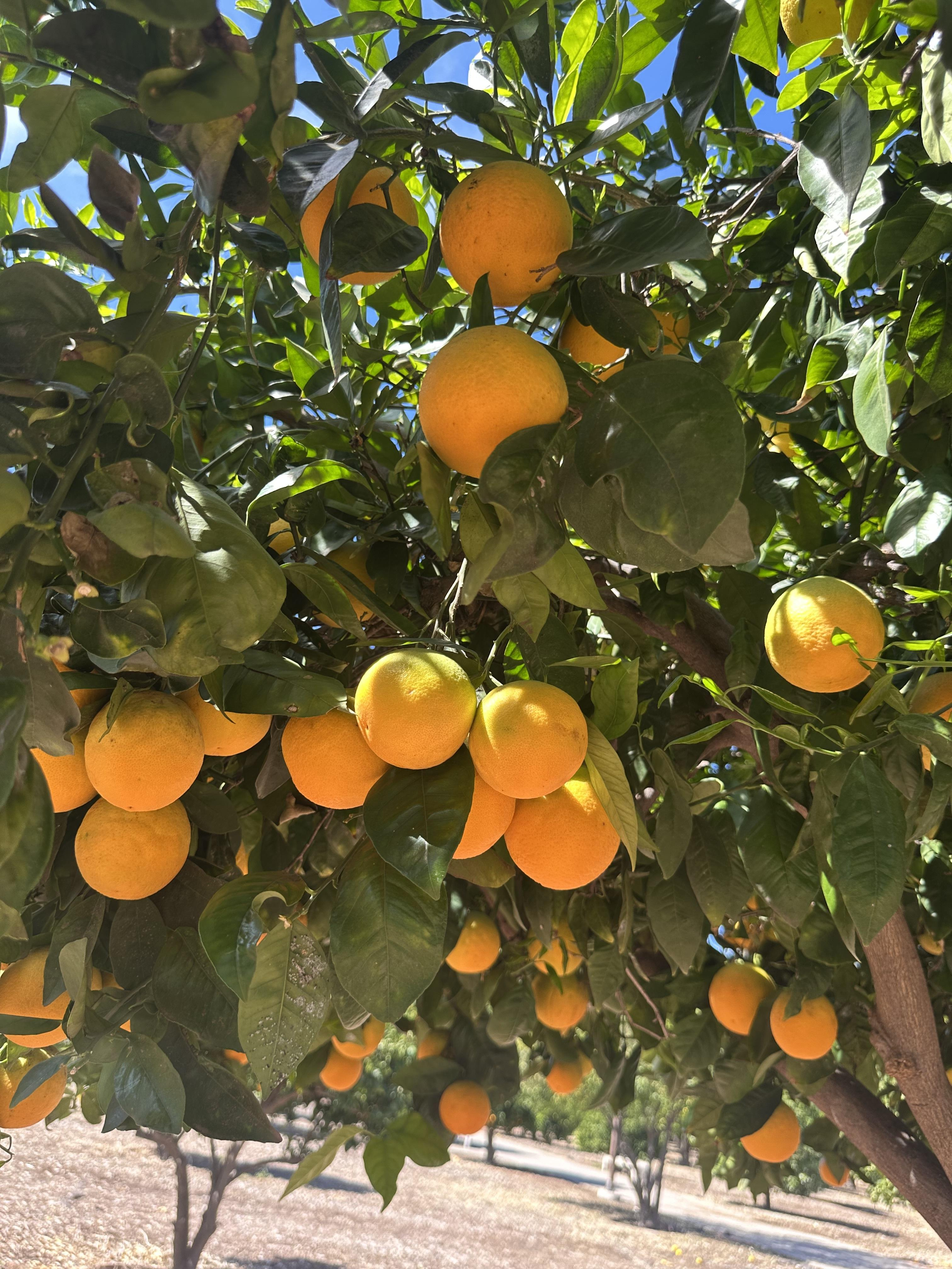orange: (418, 325, 568, 477), (439, 160, 575, 307), (85, 689, 206, 812), (355, 649, 476, 769), (301, 162, 418, 286), (764, 574, 885, 693), (469, 679, 587, 799), (30, 657, 117, 815), (506, 776, 619, 890), (75, 798, 190, 900), (281, 709, 388, 809), (0, 945, 103, 1048), (301, 539, 387, 628), (779, 0, 891, 59), (178, 686, 272, 756), (0, 1035, 68, 1129), (454, 773, 515, 859), (558, 310, 627, 384), (770, 986, 838, 1059), (709, 960, 775, 1035), (907, 672, 952, 772), (444, 908, 500, 976), (527, 913, 585, 976), (741, 1104, 800, 1163), (531, 971, 589, 1028), (88, 964, 132, 1033), (758, 415, 820, 461), (439, 1080, 490, 1135), (331, 1014, 385, 1059), (255, 509, 303, 557), (646, 306, 690, 356), (320, 1049, 362, 1091), (545, 1056, 583, 1094), (415, 1029, 449, 1062), (732, 916, 765, 950), (817, 1154, 849, 1187), (916, 933, 945, 955), (579, 1050, 593, 1076)
